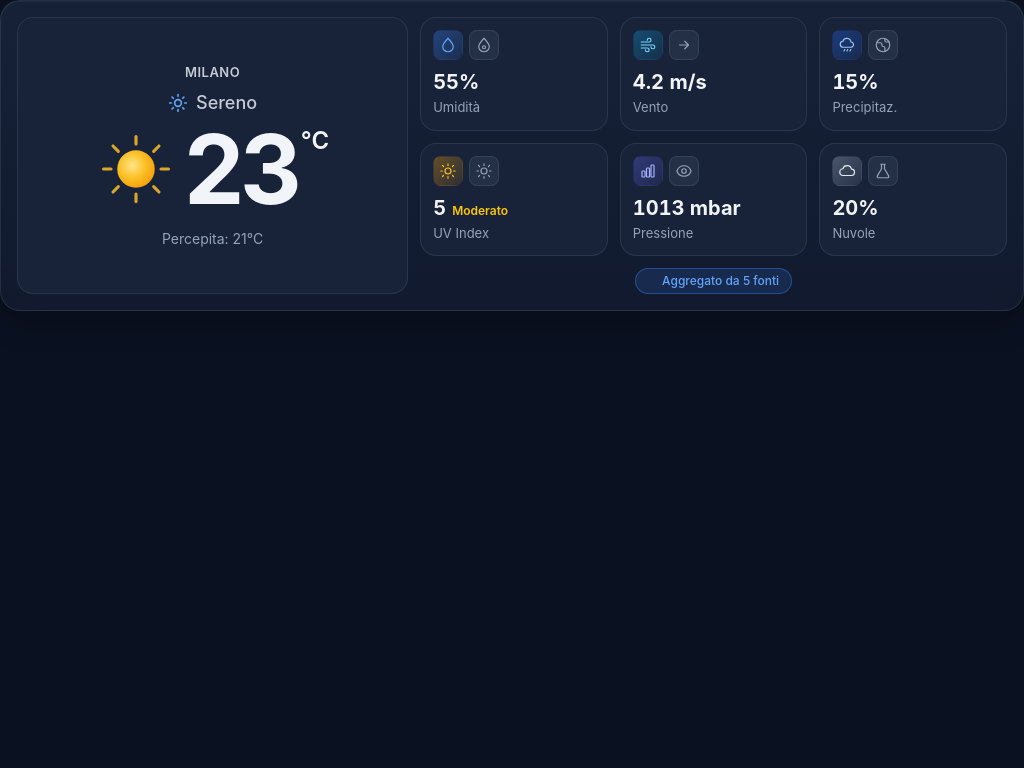
Test: CurrentWeather air quality › closes the detail from the close button
Click the text "Precipitaz.".
click(865, 108)  # box [832,98,897,118]
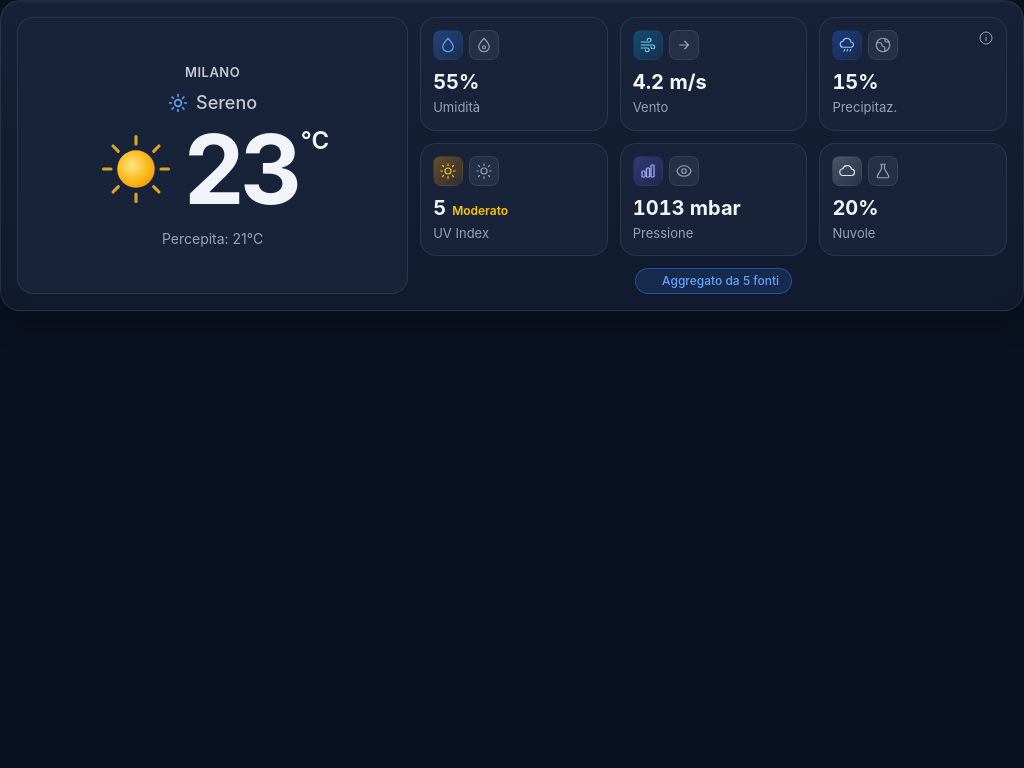
Click the button named "Dettaglio qualità dell'aria".
click(986, 38)  # box [974,26,998,50]
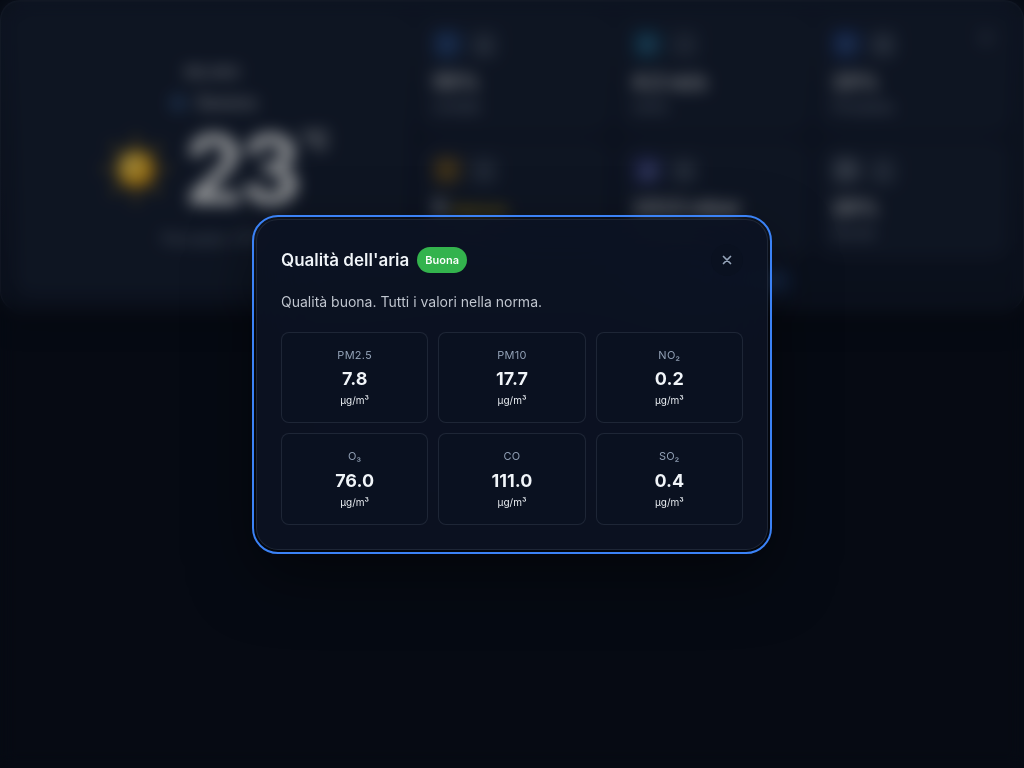
Click the button named "Chiudi".
click(727, 260)  # box [711,244,743,276]
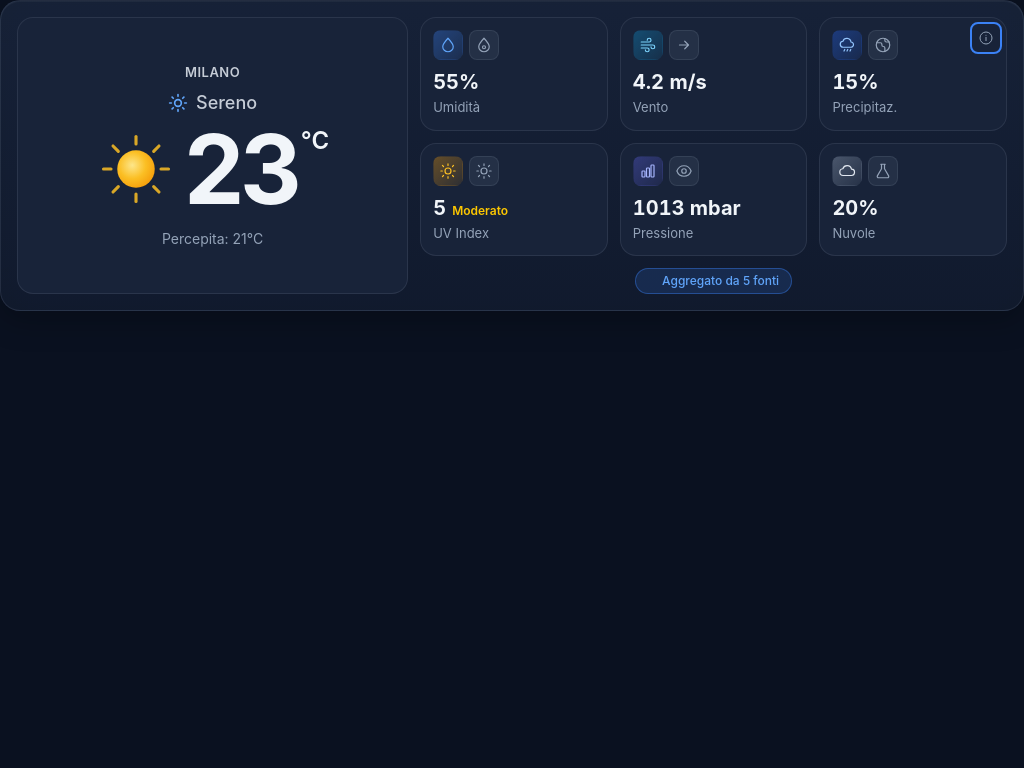
Expected: the dialog is gone
